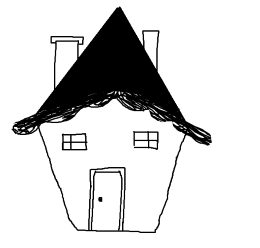chimney: (49, 26, 84, 91), (139, 20, 165, 74)
closed_window: (125, 128, 162, 153), (57, 132, 91, 154)
door: (85, 161, 129, 232)
shaded_roof: (3, 4, 215, 142)
wall: (31, 126, 194, 242)
